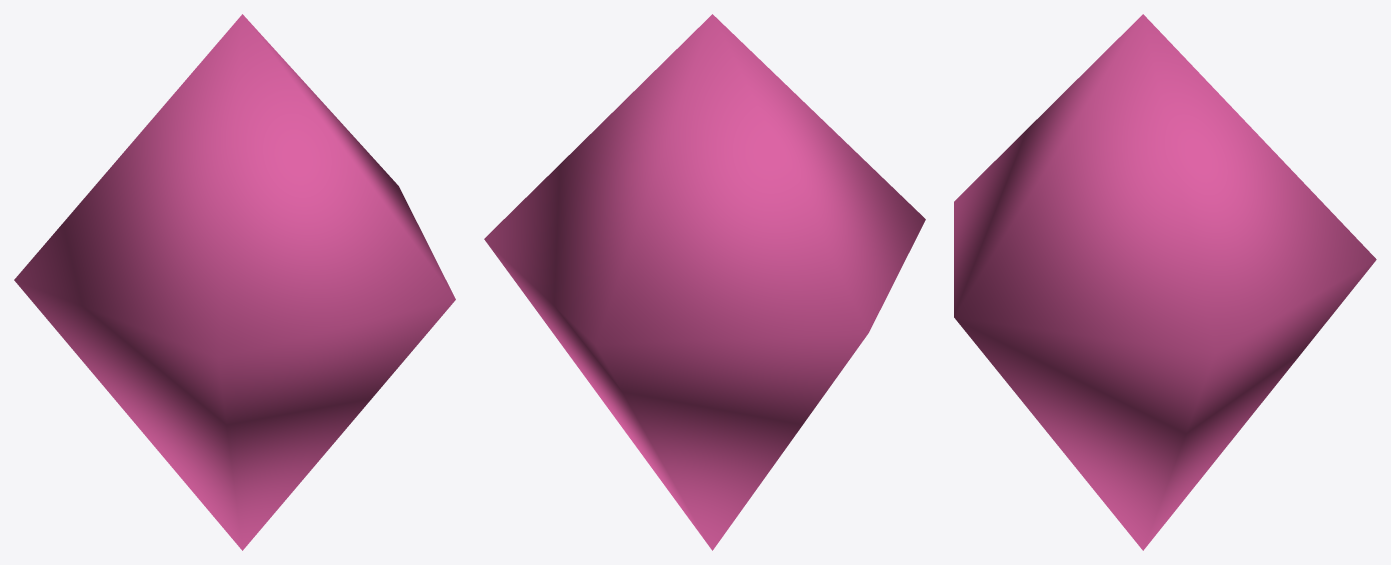
File: Mariposa_Body.FBX
3 renders of one model, left to right at view 1: azimuth 30°, elevation 25°; view 2: azimuth 150°, elevation 25°; view 3: azimuth 270°, elevation 25°, orthographic.
Parts seen in each view (by area): view 1: Body; view 2: Body; view 3: Body.
Part boxes in pixels (left/top/right/bottom): Body: left=14, top=14, right=455, bottom=550; Body: left=484, top=14, right=925, bottom=550; Body: left=954, top=14, right=1376, bottom=550.
Size of the model in its own units: 270 by 359 by 256.
